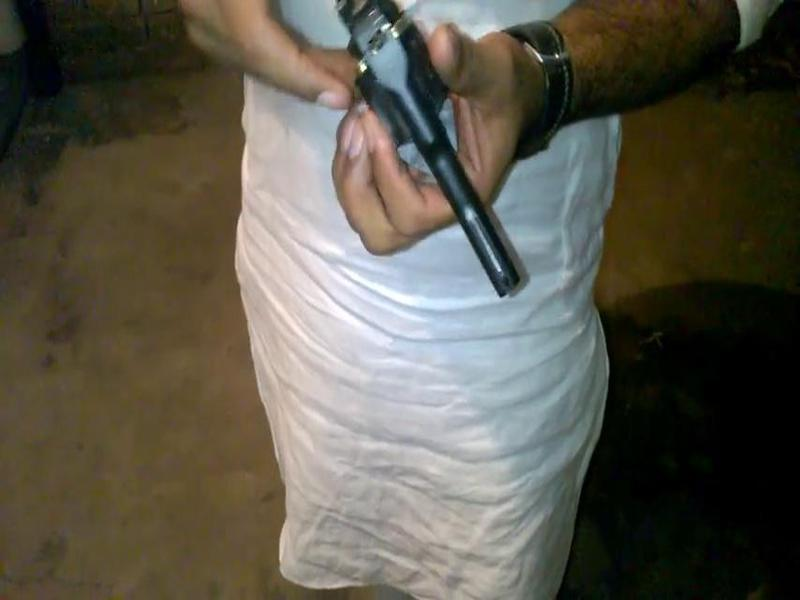Revolver: (296, 1, 553, 309)
